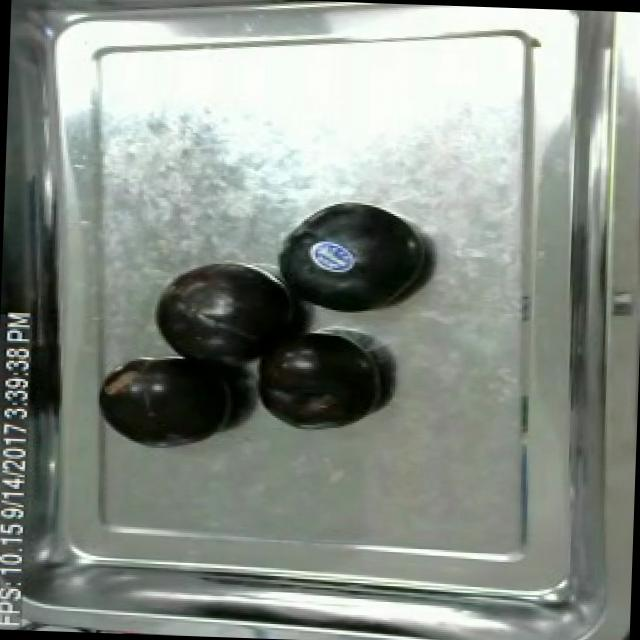Fruit: (266, 196, 434, 320), (149, 256, 305, 370), (249, 326, 389, 434), (97, 351, 242, 454)
